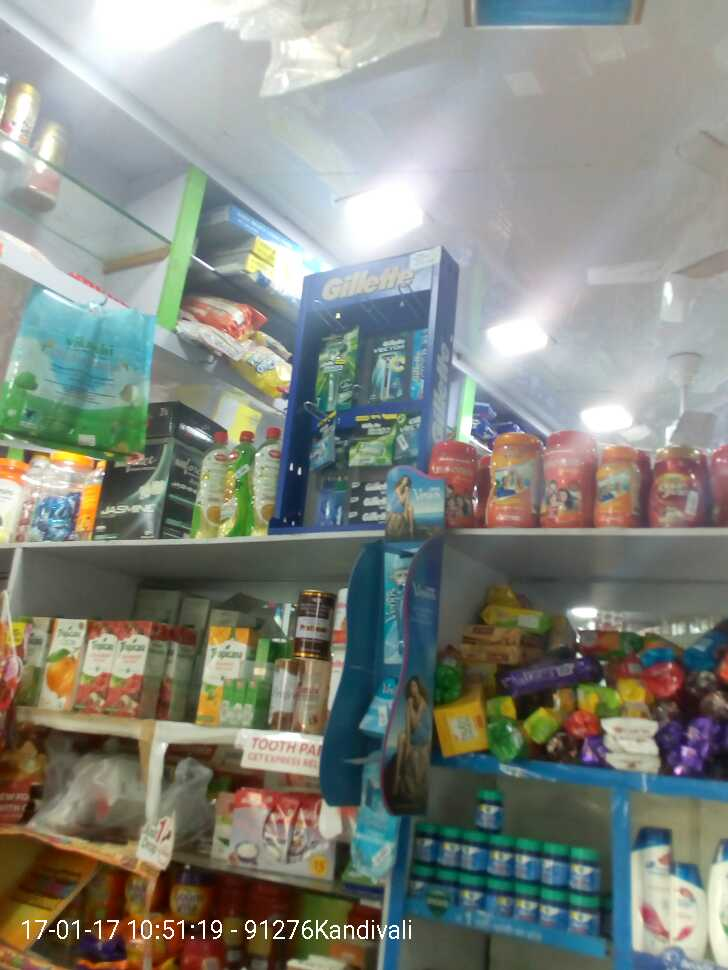beauty: (304, 328, 414, 466)
pharmacy: (413, 790, 613, 941)
